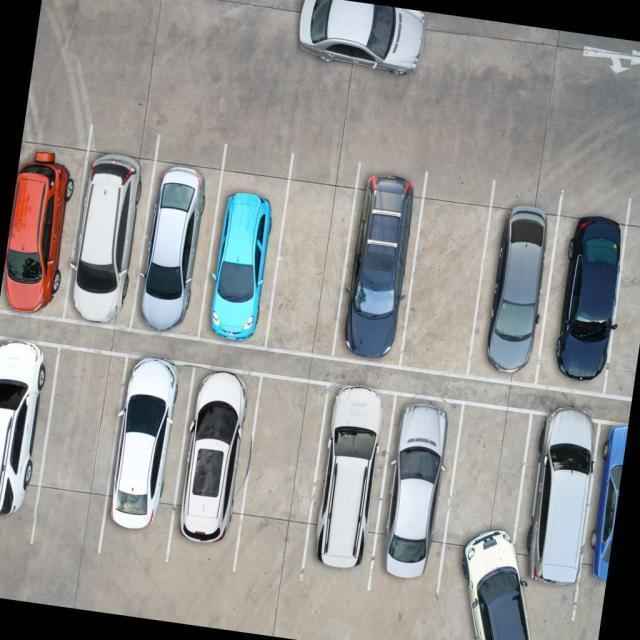space-empty: (268, 162, 360, 347), (34, 353, 124, 539), (403, 181, 488, 377), (444, 403, 533, 581), (236, 373, 324, 546), (607, 216, 640, 405)
space-occupied: (535, 209, 633, 400), (128, 151, 223, 335), (467, 191, 562, 374), (371, 395, 464, 575), (510, 406, 603, 584), (0, 136, 90, 319), (65, 142, 158, 319), (339, 172, 425, 352), (111, 356, 195, 540), (307, 386, 395, 561), (206, 164, 293, 341), (178, 371, 261, 542), (0, 336, 62, 519), (579, 417, 629, 584)
